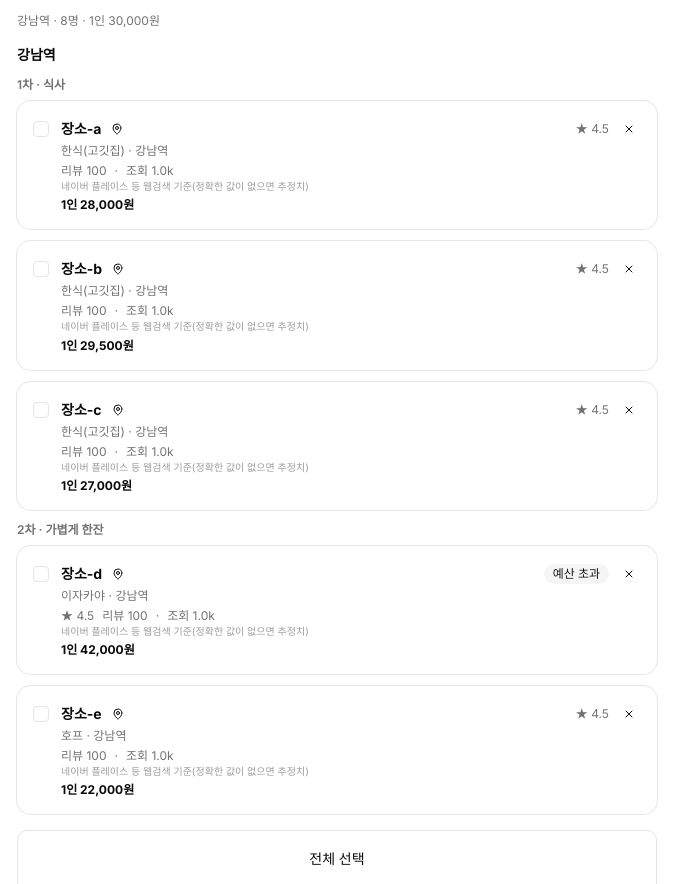
ResultList › 카드 여러 개 선택 후 선택 삭제 클릭 → 한 번에 화면에서 사라지고 선택 개수가 초기화된다
This screenshot has width=675, height=884.
Click the checkbox named "장소-a 선택". click: (41, 129)
box: x1=33 y1=121 x2=49 y2=137
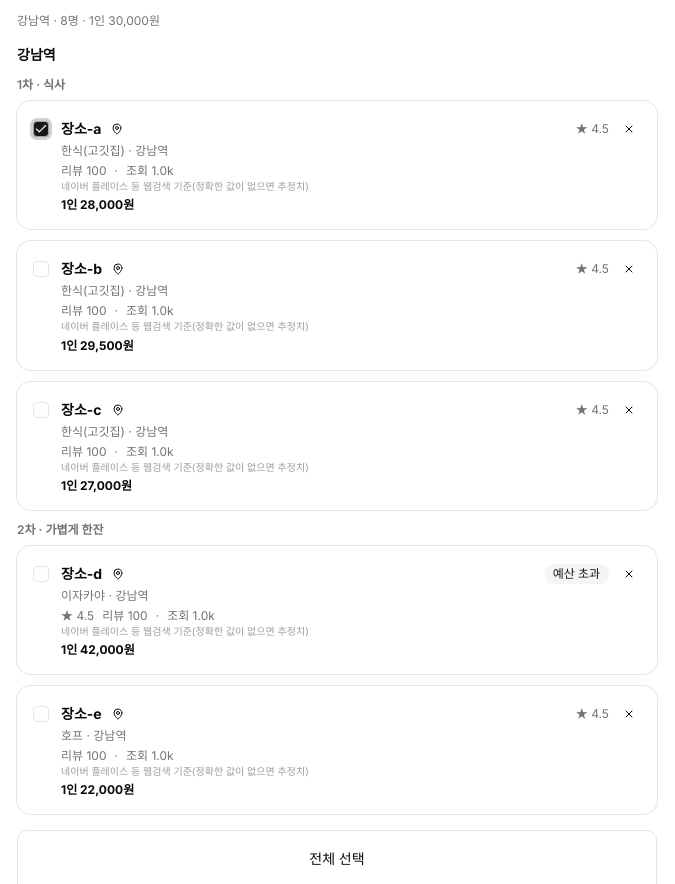
Click the checkbox named "장소-b 선택". click: (41, 269)
box: x1=33 y1=261 x2=49 y2=277
(page scrolled)
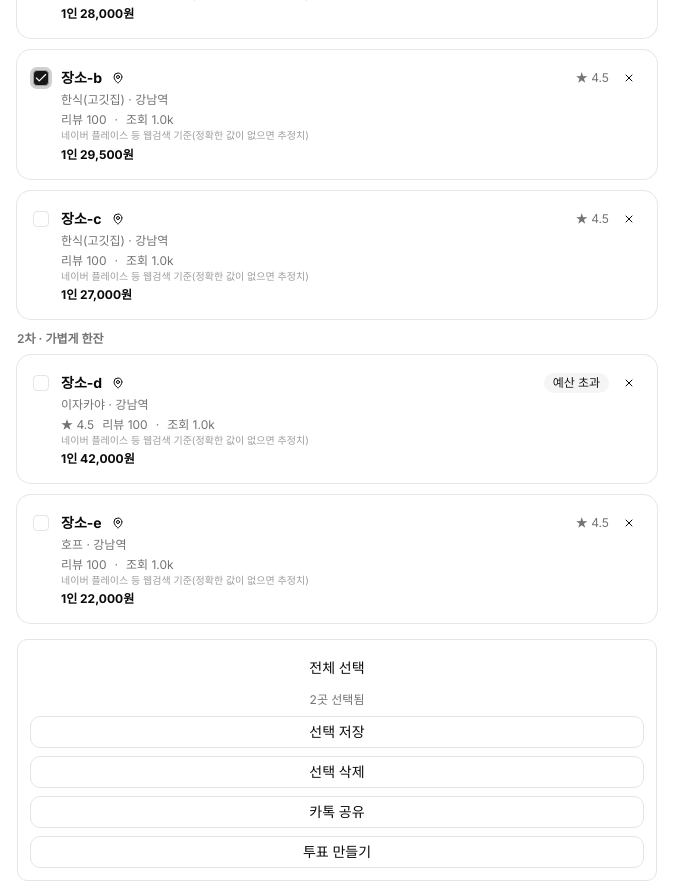
Click the button "선택 삭제". click: (337, 772)
box: x1=30 y1=756 x2=644 y2=788
(page scrolled)
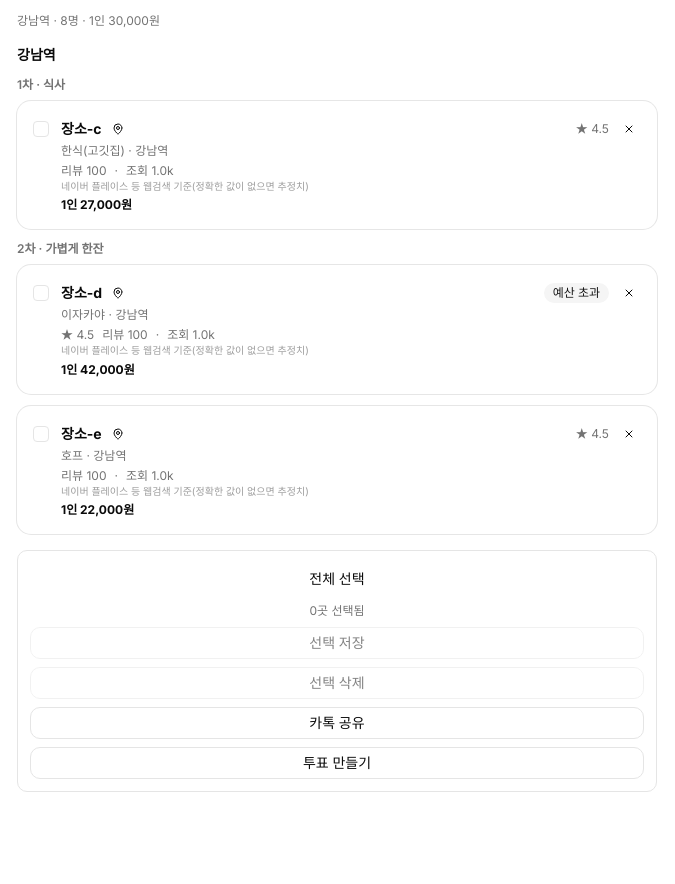
Check: the number of checkboxes is 3, box x1=33 y1=121 x2=49 y2=137; x1=33 y1=285 x2=49 y2=301; x1=33 y1=426 x2=49 y2=442
Check: the text "0곳 선택됨" is shown, box x1=309 y1=603 x2=364 y2=619
